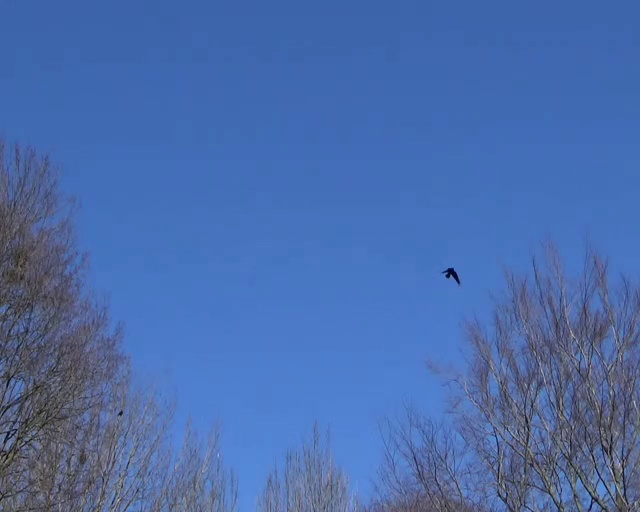BIRD: (440, 267, 462, 285)
